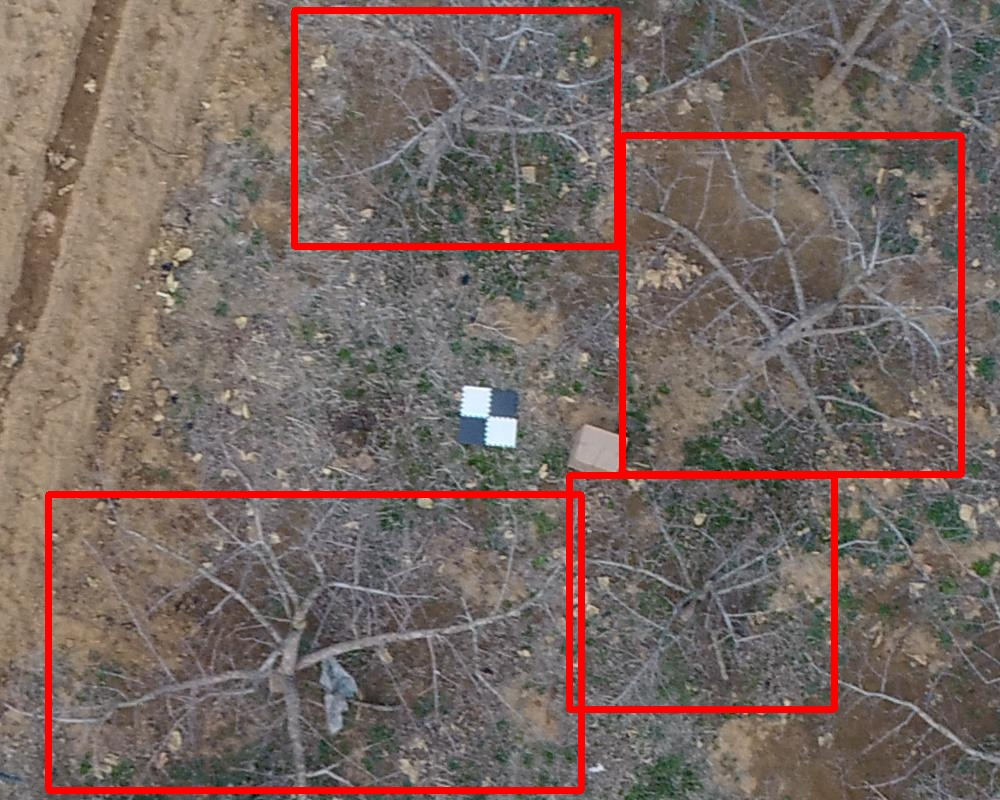apple: (48, 494, 581, 790), (622, 135, 961, 474), (294, 10, 617, 246), (569, 475, 834, 709)
